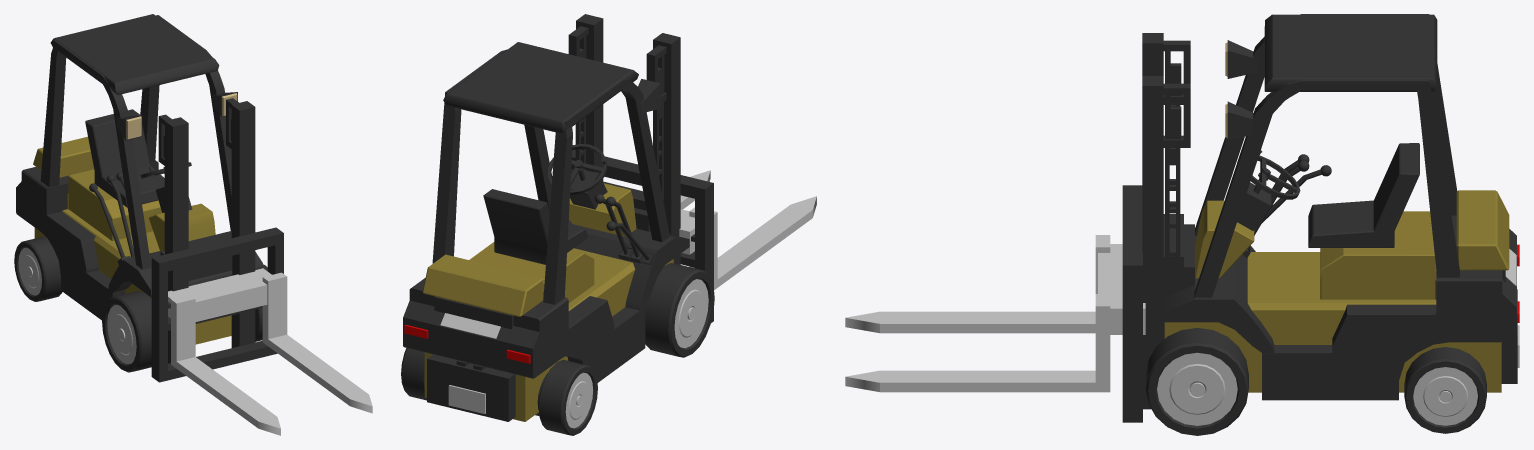
Rendered from Forklift_02.fbx.
The picture shows the model from 3 angles, left to right: view 1: azimuth 30°, elevation 25°; view 2: azimuth 150°, elevation 25°; view 3: azimuth 270°, elevation 25°; orthographic projection. The views are drawn at different scales.
Parts seen in each view (by area): view 1: Forklift, Bars; view 2: Forklift, Bars; view 3: Forklift, Bars.
Part boxes in pixels (x1,y1,x2,y2): Forklift: (14,14,267,372); Bars: (151,227,372,435); Forklift: (401,14,714,435); Bars: (571,149,816,322); Forklift: (1142,14,1519,435); Bars: (845,185,1145,422).
Bounding box in the file's own units: 2.16 × 3.72 × 6.61.
